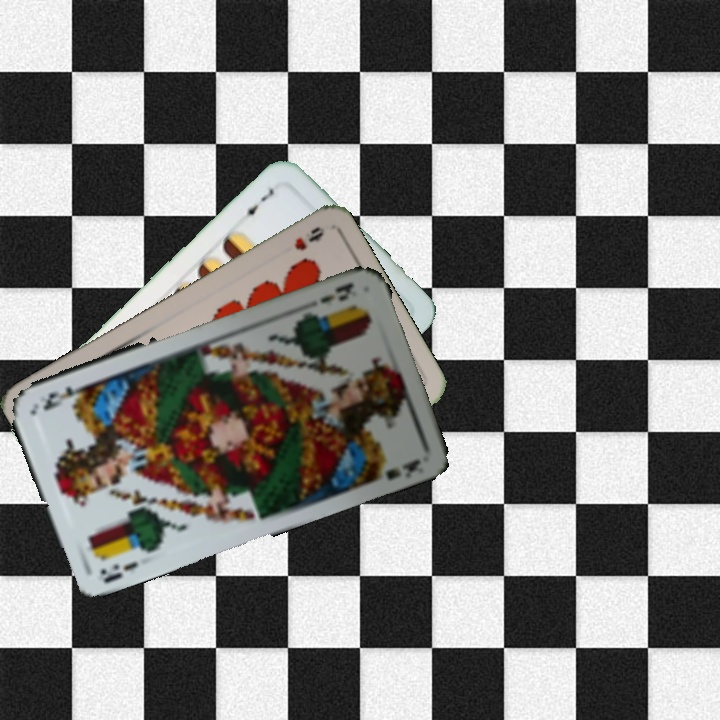E7: (237, 183, 277, 221)
EK: (96, 557, 142, 586), (316, 278, 356, 307)
H9: (290, 222, 328, 253)
